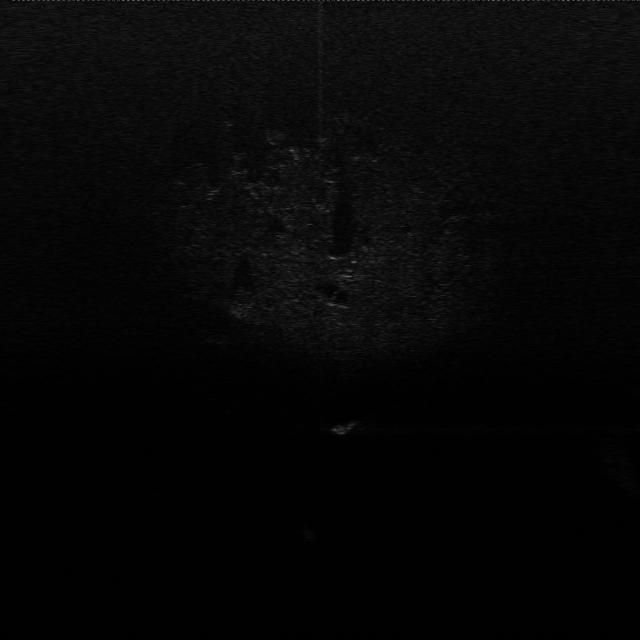square cage: (324, 411, 368, 440)
